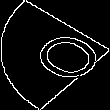O_SE: (8, 22, 102, 88)
